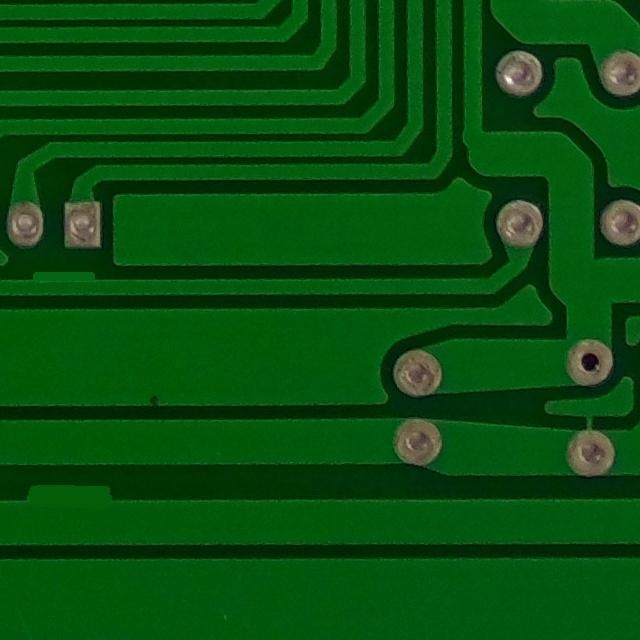spur: (13, 466, 129, 522), (20, 263, 108, 302)
